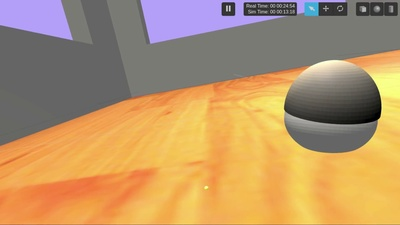mira_robot: (284, 60, 382, 153)
